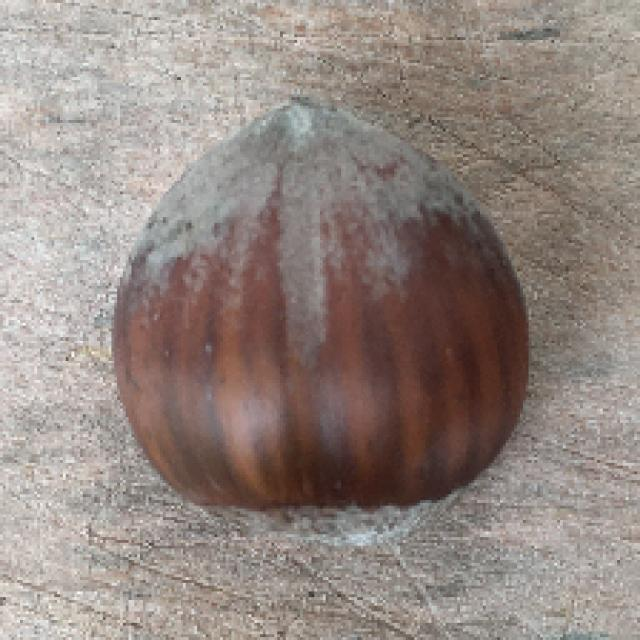DamagedHazelnut: (111, 95, 529, 543)
